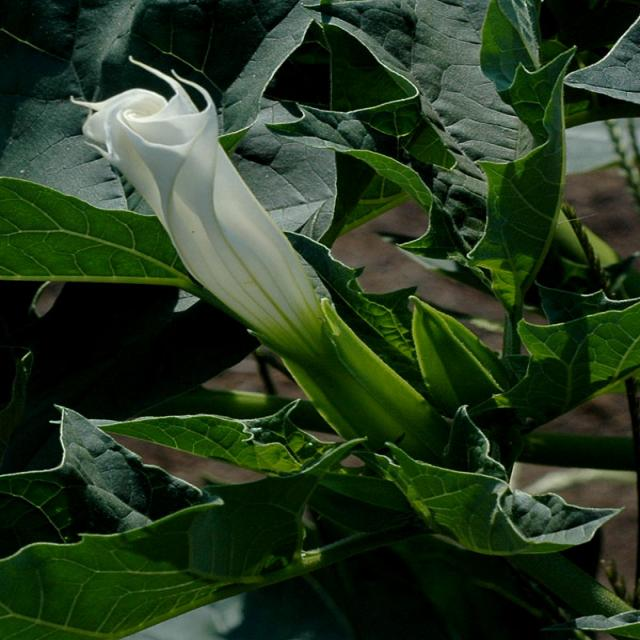Poisonous-Datura_Stramonium: (57, 69, 535, 640)
